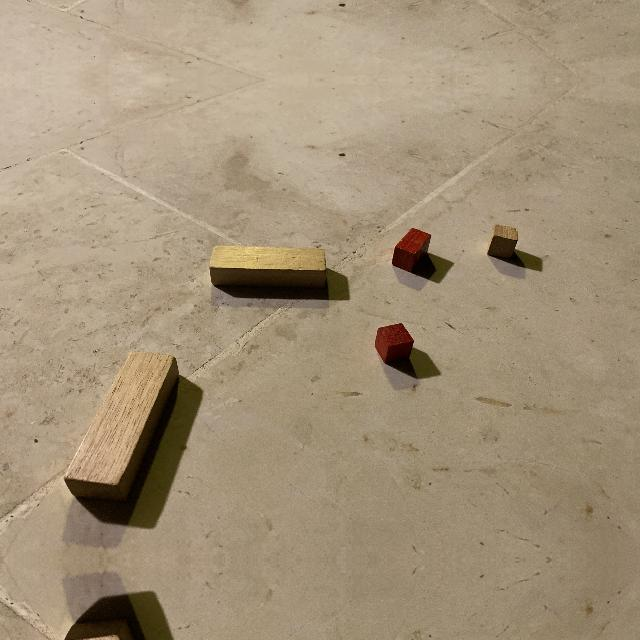cube: (487, 224, 518, 258)
jenga: (62, 351, 179, 503), (209, 245, 326, 288), (374, 323, 414, 363)
red block: (391, 228, 431, 273)
